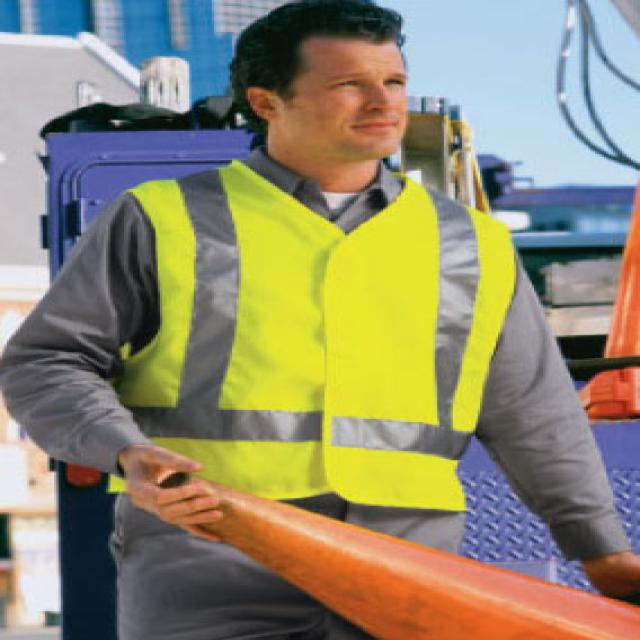vest: (117, 161, 525, 523)
